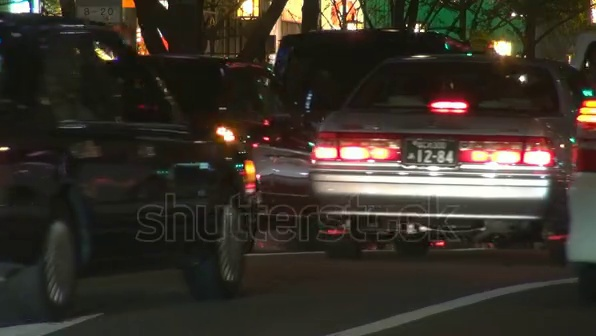licenseplate: (405, 137, 455, 171)
